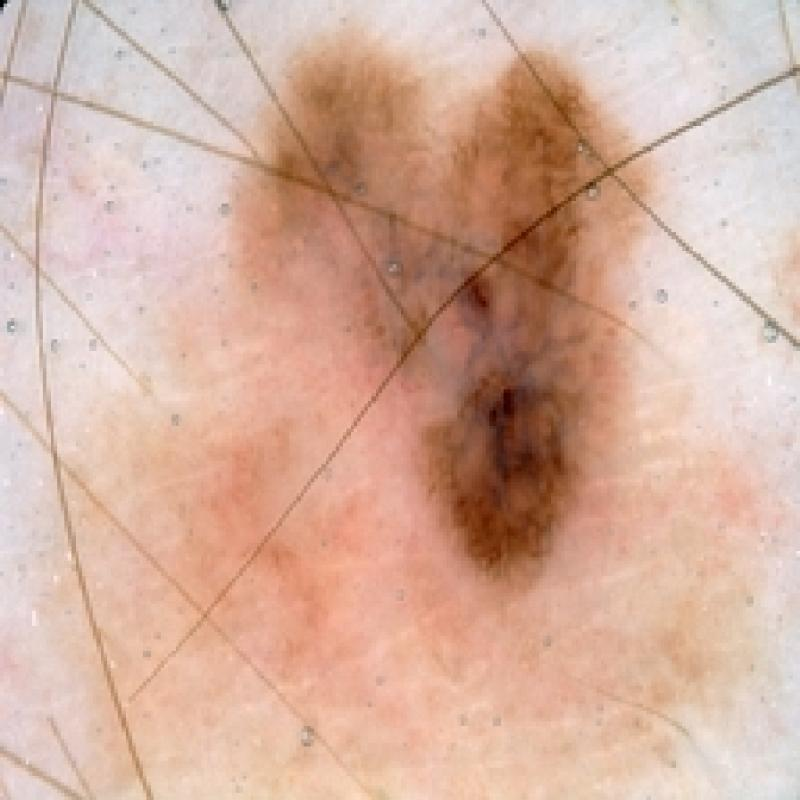malignant: (223, 23, 655, 610)
